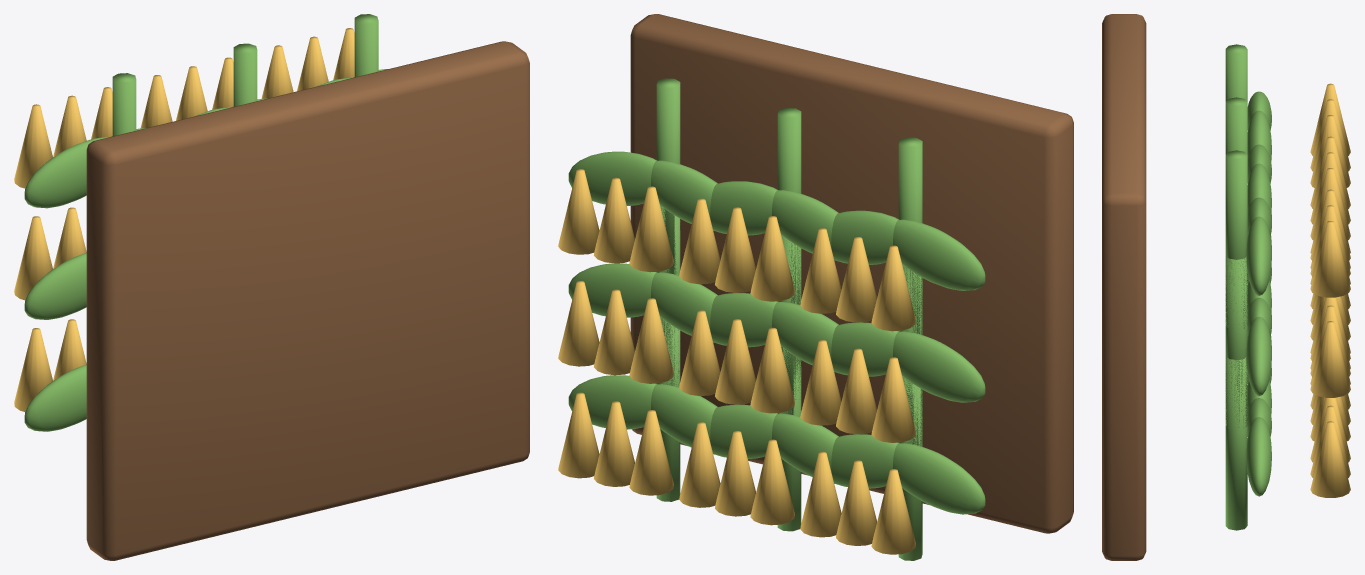
File: wheat_growing.glb
3 views of the same model, side by side, from view 1: azimuth 30°, elevation 25°; view 2: azimuth 150°, elevation 25°; view 3: azimuth 270°, elevation 25° (orthographic). The views are drawn at different scales.
Parts seen in each view (by area): view 1: Soil, Leaf.004, Leaf.002, Leaf, Grain.003, Grain, Grain.006, Stem.005, Stem.008, Stem.002, Grain.007, Grain.004 (+8 smaller); view 2: Soil, Leaf.002, Leaf.004, Leaf, Leaf.017, Leaf.013, Leaf.015, Leaf.005, Leaf.011, Stem.002, Leaf.010, Leaf.016 (+43 smaller); view 3: Soil, Stem.006, Stem.007, Stem.008, Grain.026, Grain.023, Grain.020, Leaf.013, Leaf.017, Leaf.015, Stem.005, Stem.002 (+23 smaller).
Boxes of the visible parts, bbox=[...] form: Soil: bbox=[86, 41, 529, 560]; Leaf.004: bbox=[24, 137, 109, 208]; Leaf.002: bbox=[24, 252, 86, 319]; Leaf: bbox=[24, 364, 86, 431]; Grain.003: bbox=[14, 216, 52, 300]; Grain: bbox=[14, 328, 52, 411]; Grain.006: bbox=[14, 104, 52, 188]; Stem.005: bbox=[233, 43, 257, 106]; Stem.008: bbox=[354, 14, 378, 77]; Stem.002: bbox=[112, 73, 136, 136]; Grain.007: bbox=[53, 95, 86, 157]; Grain.004: bbox=[53, 207, 86, 268]; Soil: bbox=[630, 14, 1073, 533]; Leaf.002: bbox=[893, 331, 985, 402]; Leaf.004: bbox=[893, 219, 985, 290]; Leaf: bbox=[893, 443, 985, 514]; Leaf.017: bbox=[568, 151, 657, 205]; Leaf.013: bbox=[568, 375, 656, 429]; Leaf.015: bbox=[568, 263, 656, 317]; Leaf.005: bbox=[831, 210, 899, 264]; Leaf.011: bbox=[710, 181, 777, 235]; Stem.002: bbox=[898, 137, 922, 334]; Leaf.010: bbox=[772, 190, 838, 260]; Leaf.016: bbox=[651, 160, 717, 230]; Soil: bbox=[1102, 14, 1146, 560]; Stem.006: bbox=[1225, 356, 1247, 530]; Stem.007: bbox=[1225, 256, 1247, 427]; Stem.008: bbox=[1225, 150, 1247, 328]; Grain.026: bbox=[1310, 221, 1350, 297]; Grain.023: bbox=[1310, 321, 1350, 397]; Grain.020: bbox=[1310, 421, 1350, 497]; Leaf.013: bbox=[1246, 417, 1271, 496]; Leaf.017: bbox=[1246, 216, 1271, 295]; Leaf.015: bbox=[1246, 316, 1271, 396]; Stem.005: bbox=[1225, 97, 1247, 154]; Stem.002: bbox=[1225, 44, 1247, 101].
Size of the model in its own units: 1.2 by 1.11 by 0.675.
